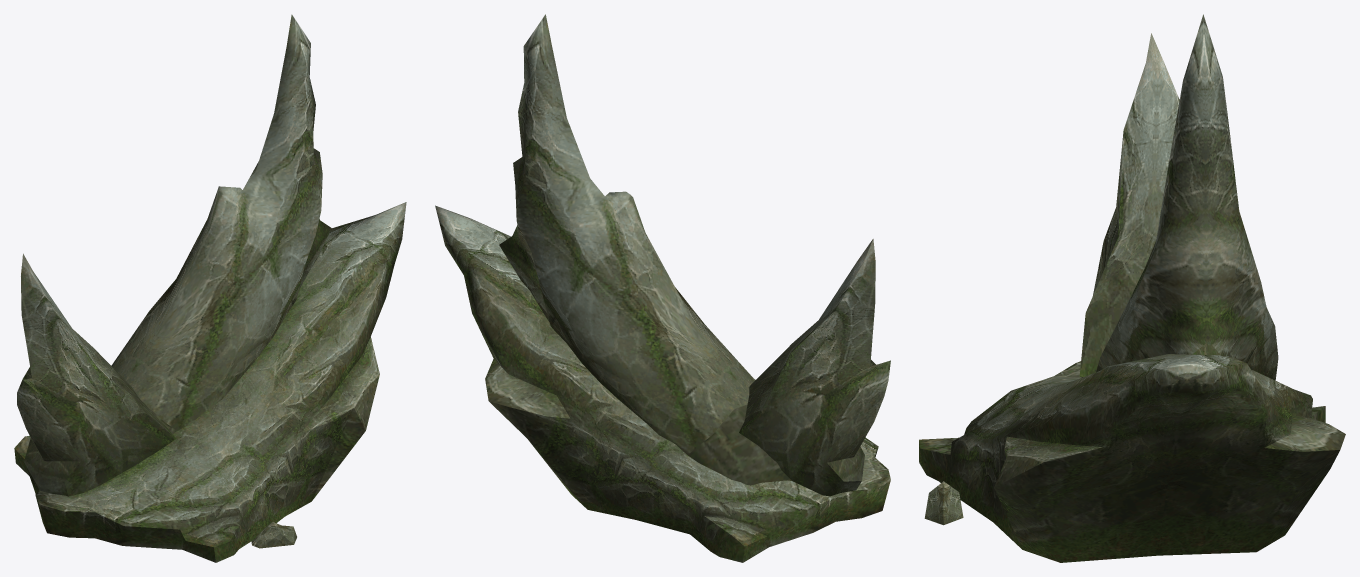
File: 3004_Item_shitou_5.FBX
3 views of the same model, side by side, from view 1: azimuth 30°, elevation 25°; view 2: azimuth 150°, elevation 25°; view 3: azimuth 270°, elevation 25° (orthographic). The views are drawn at different scales.
Parts seen in each view (by area): view 1: 3004_Item_shitou_5; view 2: 3004_Item_shitou_5; view 3: 3004_Item_shitou_5.
Part boxes in pixels (left/top/right/bottom): 3004_Item_shitou_5: left=14, top=14, right=406, bottom=562; 3004_Item_shitou_5: left=435, top=14, right=890, bottom=562; 3004_Item_shitou_5: left=919, top=14, right=1345, bottom=562.
Size of the model in its own units: 731 by 735 by 498.
